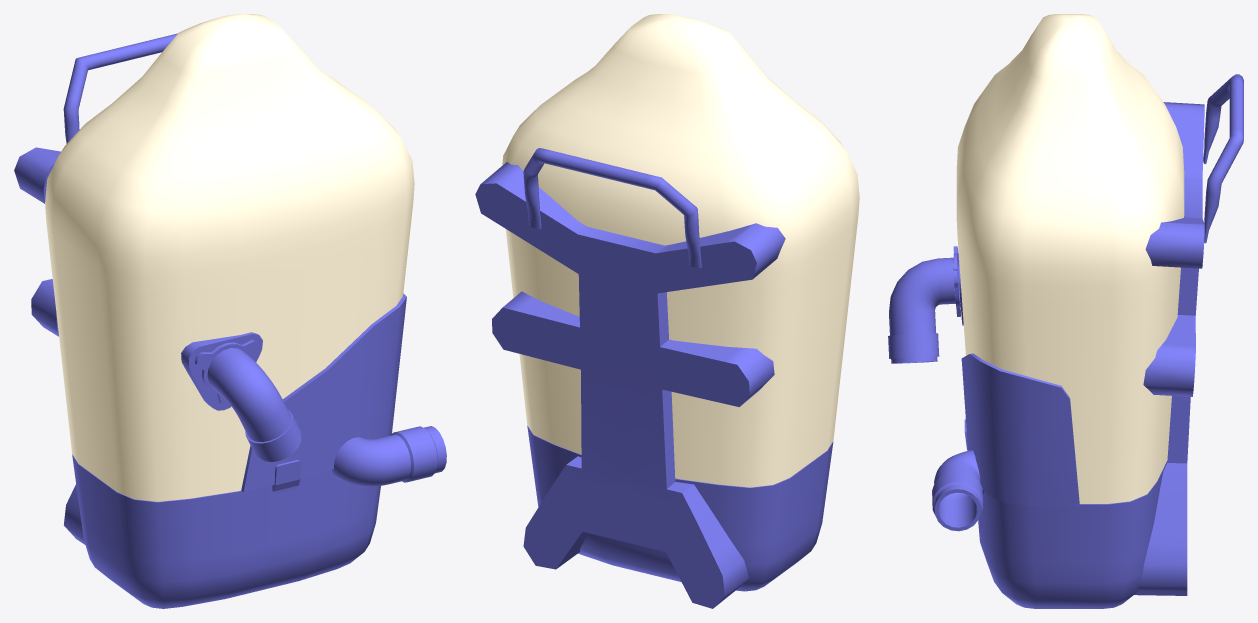
Rendered from BB container.fbx.
3 renders of one model, left to right at view 1: azimuth 30°, elevation 25°; view 2: azimuth 150°, elevation 25°; view 3: azimuth 270°, elevation 25°, orthographic. The views are drawn at different scales.
Parts seen in each view (by area): view 1: O05_Standard_1_0; view 2: O05_Standard_1_0; view 3: O05_Standard_1_0.
Part boxes in pixels (x1=…): O05_Standard_1_0: x1=14, y1=14, x2=446, y2=608; O05_Standard_1_0: x1=475, y1=14, x2=859, y2=608; O05_Standard_1_0: x1=888, y1=14, x2=1243, y2=608.
Bounding box in the file's own units: 9006 × 15351 × 9122.
Materials: 9 (8 with a texture image).
